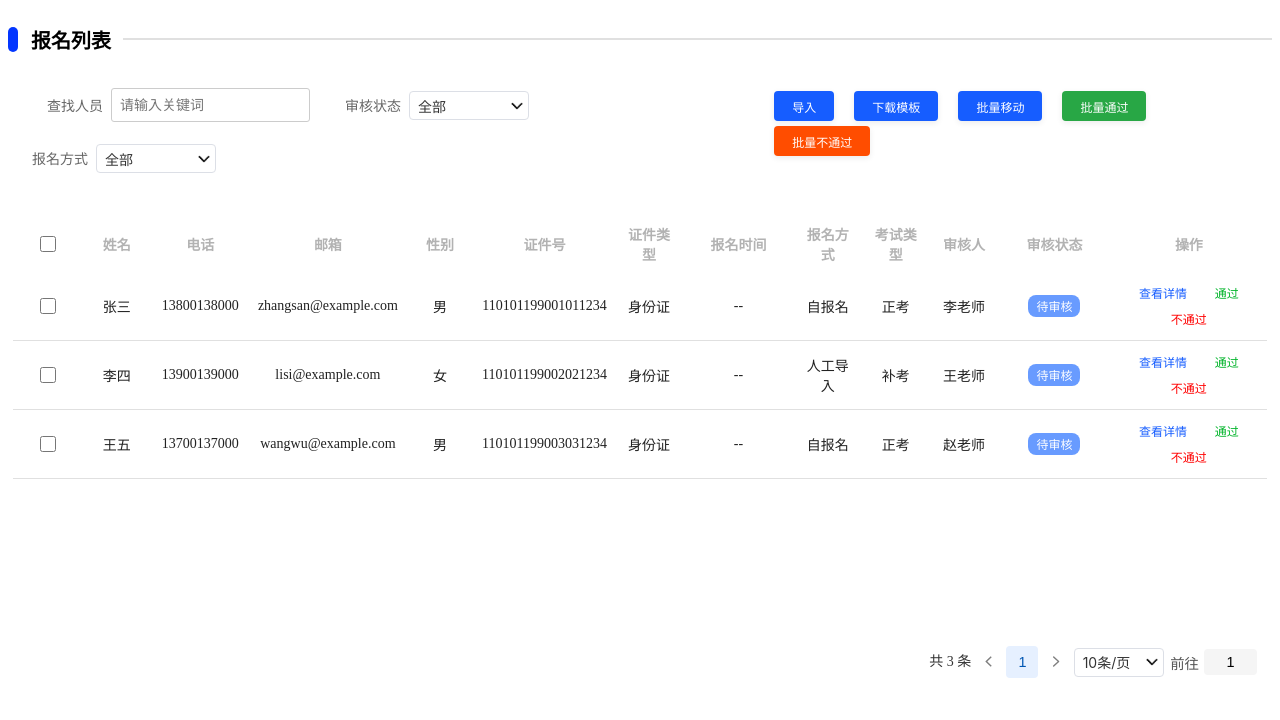
Test: EnrollManagement › 交互功能测试 › 单个通过操作
Expected: the text "张三" is shown, [83,272,151,341]
What coordinates should you click on to do the following:
click the button with test id "approve-btn" in the row of "张三"
I would click on:
 (1227, 293)
Its box is [1207,280,1247,306].
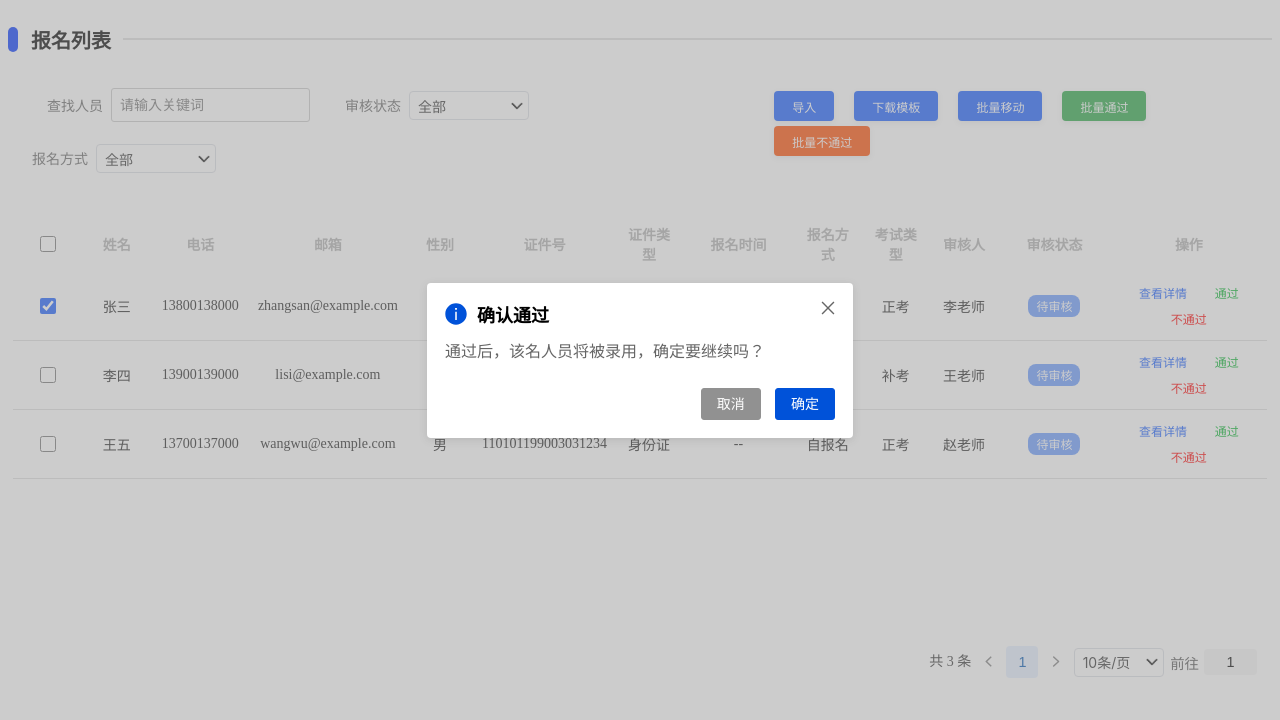
Expected: the text "确认通过" is shown, [445,302,549,326]
Expected: the text "通过后，该名人员将被录用，确定要继续吗？" is shown, [445,342,765,360]
